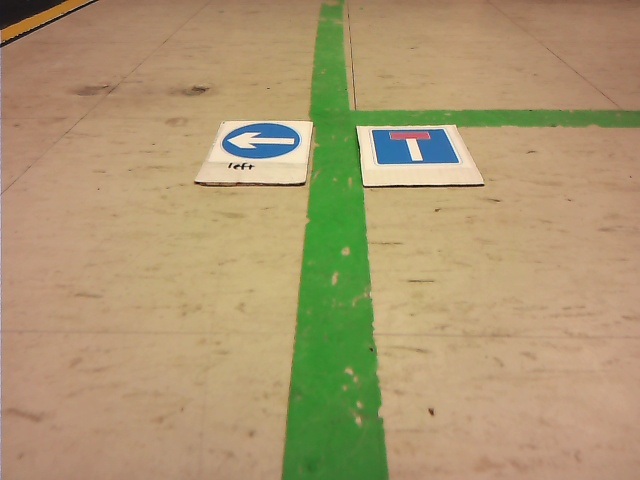DEAD END: (371, 128, 461, 163)
TURN LEFT: (222, 123, 300, 158)
